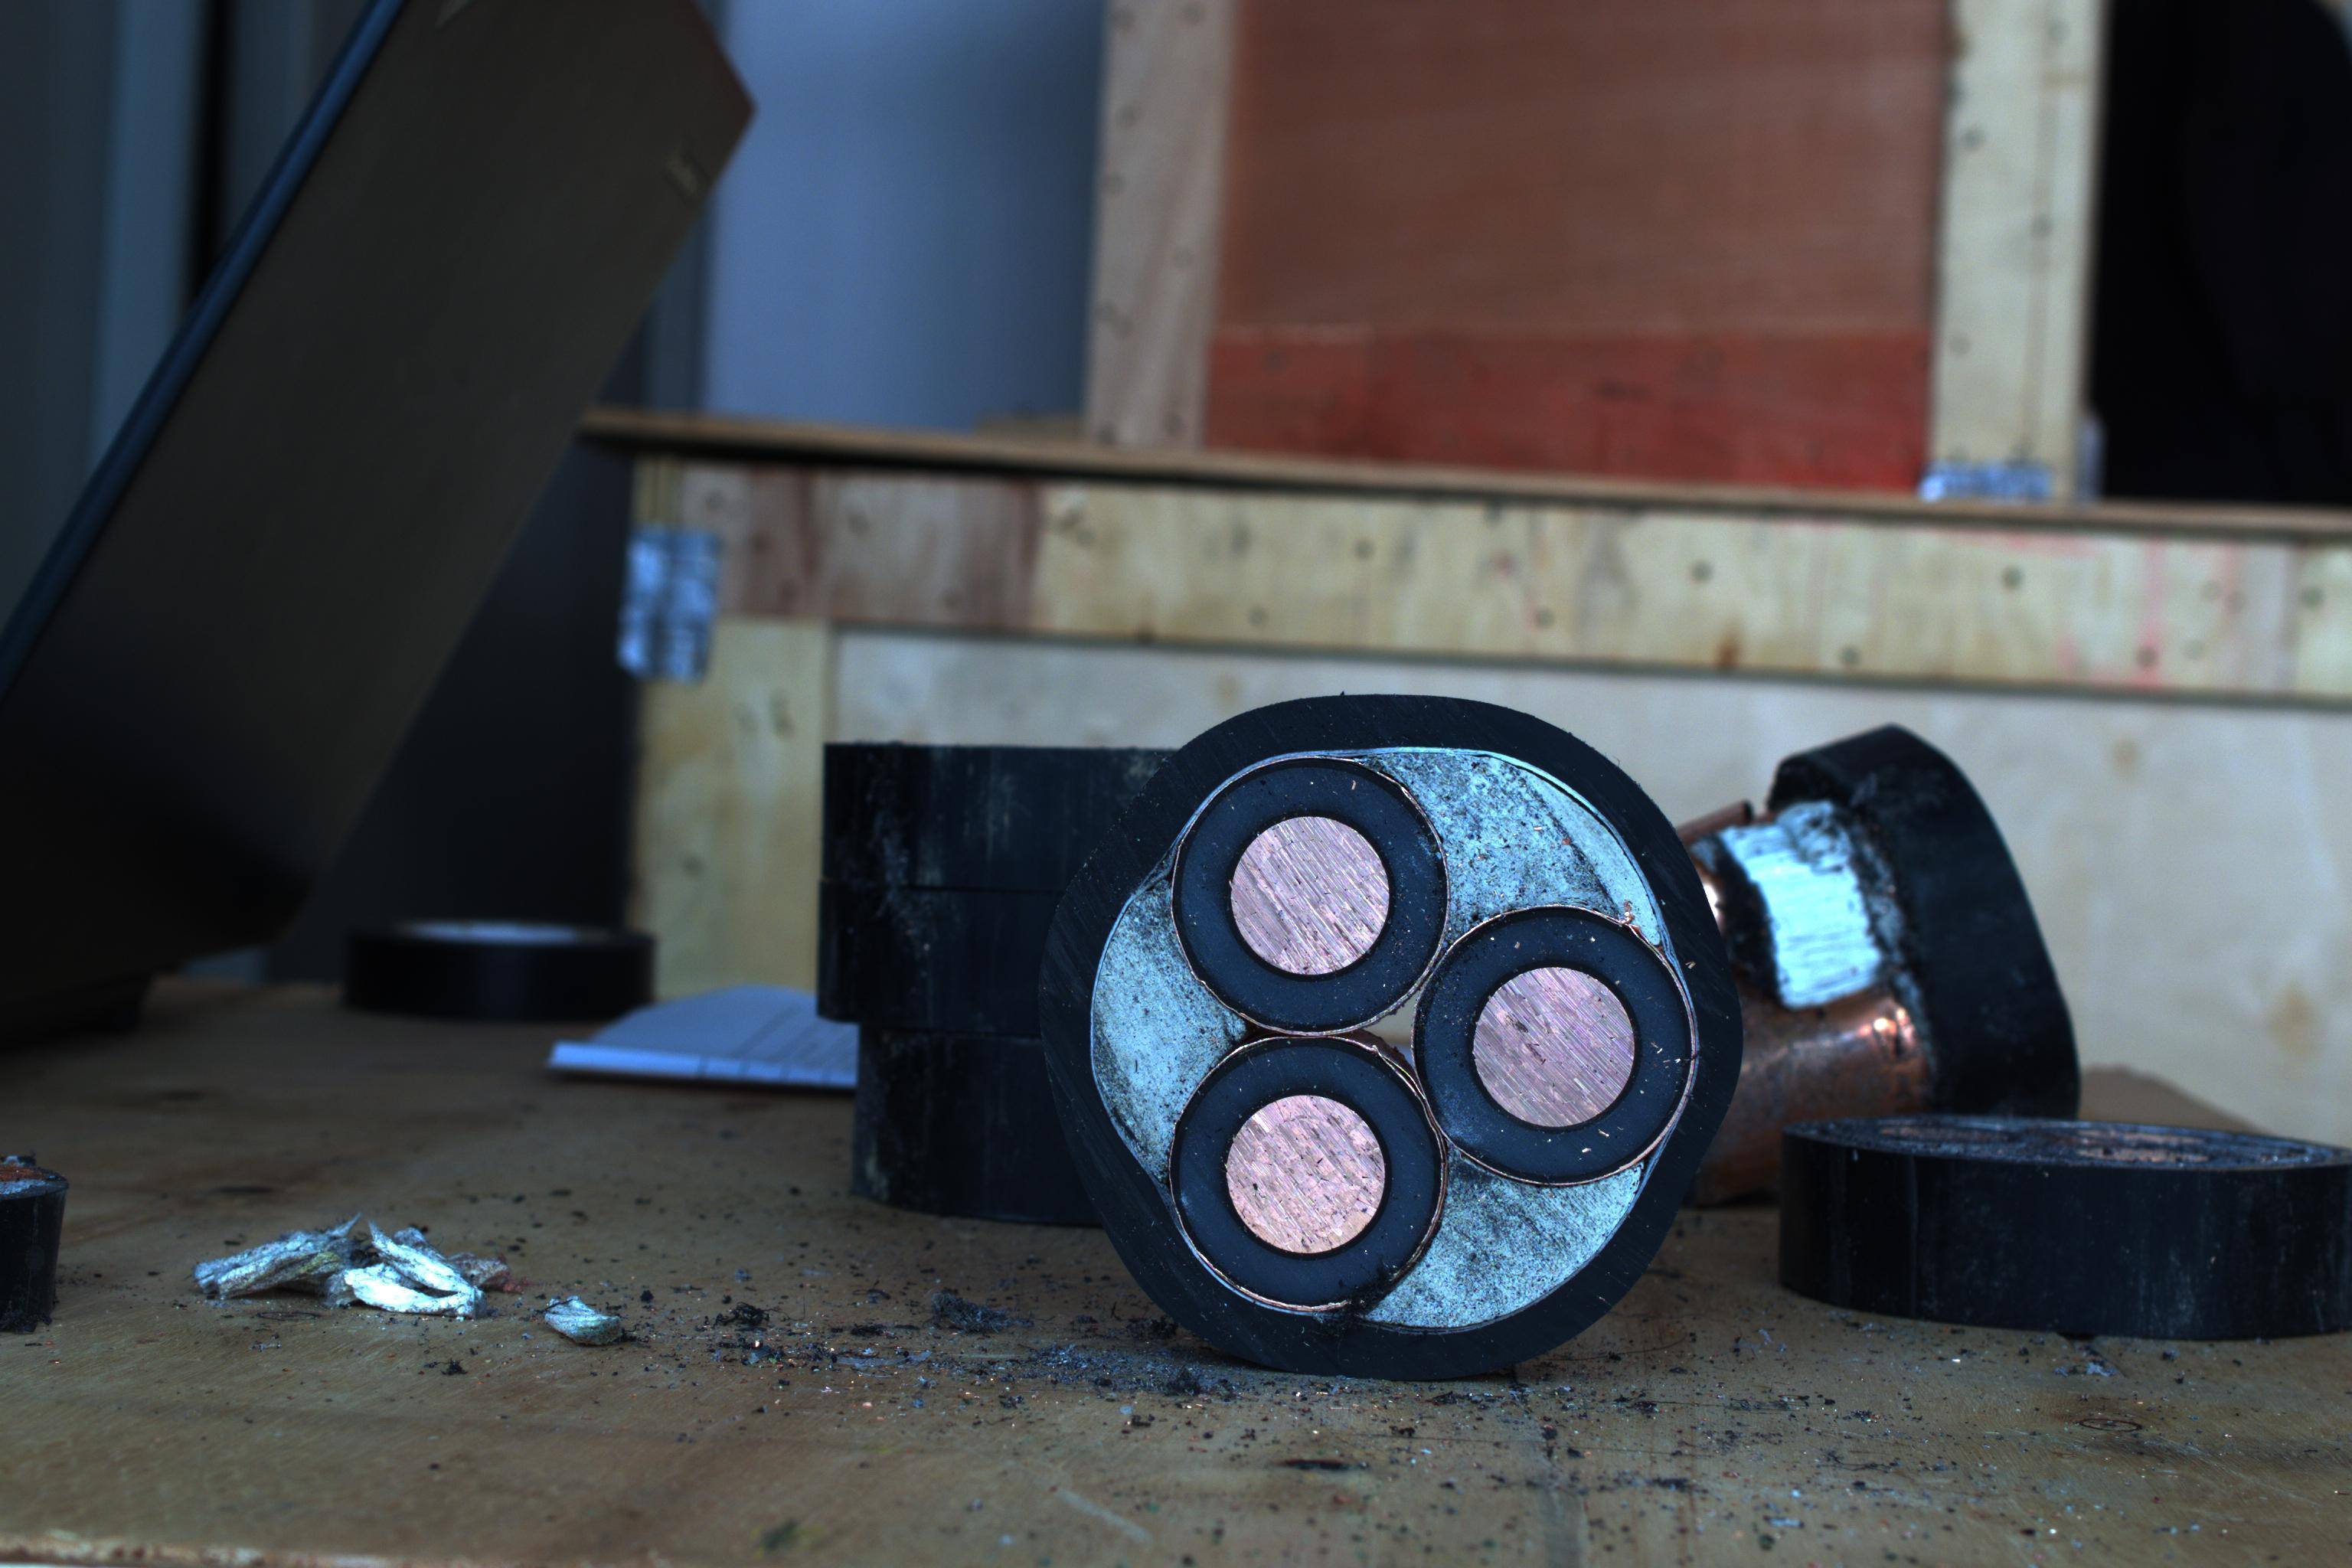ZA_YJV_8.7_10kV_3x240: (1027, 700, 1778, 1363)
